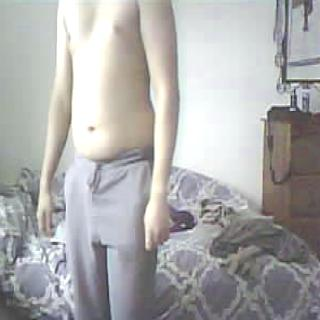Gray Sweatpants: (56, 144, 161, 320)
